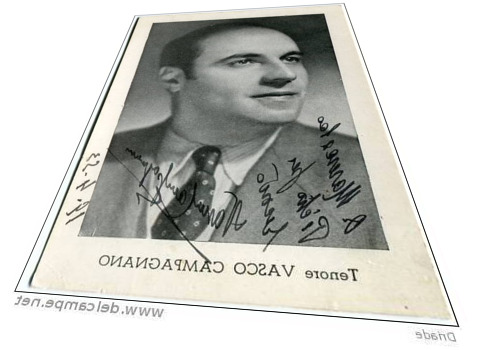face: (158, 22, 310, 127)
